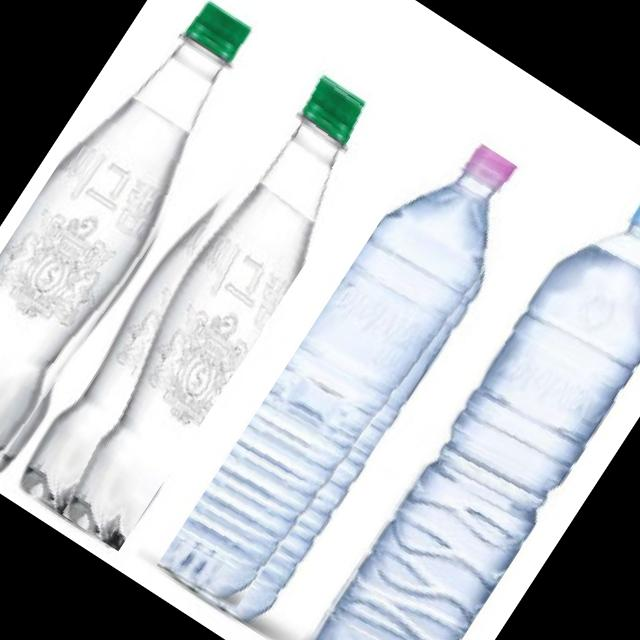plastic bottle: (155, 120, 547, 633), (14, 54, 396, 552), (292, 169, 640, 640), (0, 0, 283, 479)
